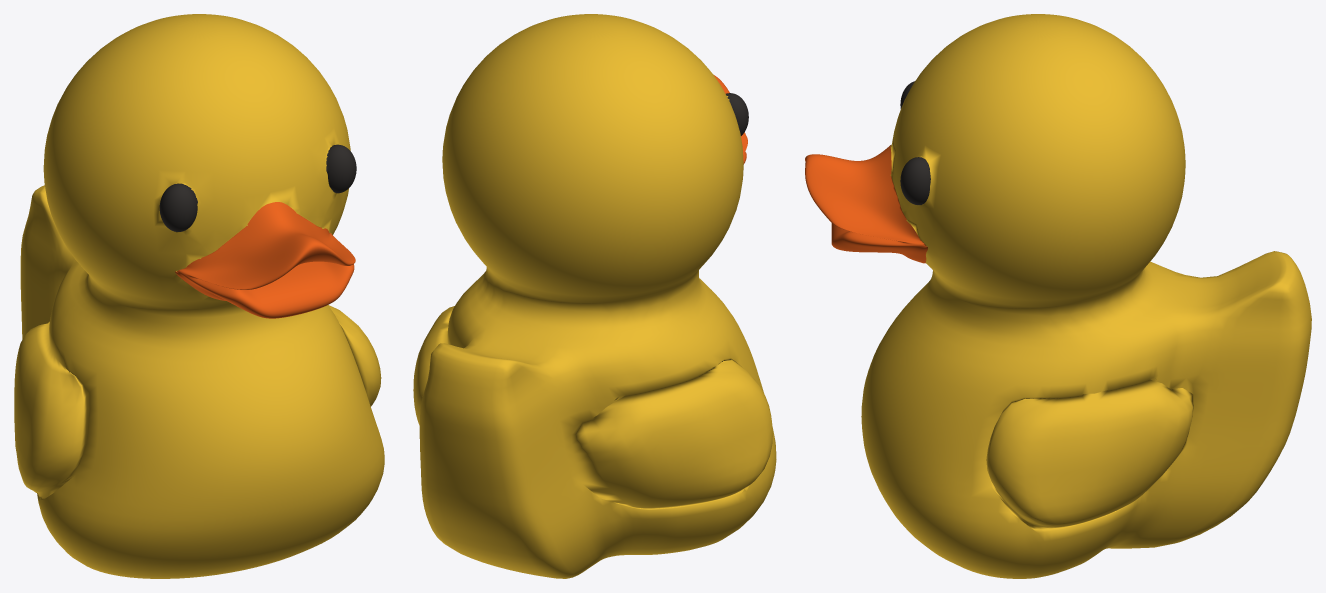
File: ducky.glb
The picture shows the model from 3 angles, left to right: view 1: azimuth 30°, elevation 25°; view 2: azimuth 150°, elevation 25°; view 3: azimuth 270°, elevation 25°; orthographic projection. The views are drawn at different scales.
Visible parts, largest first — view 1: duck; view 2: duck; view 3: duck.
Boxes of the visible parts, bbox=[...] form: duck: bbox=[14, 14, 384, 578]; duck: bbox=[413, 14, 776, 578]; duck: bbox=[805, 14, 1311, 578].
Size of the model in its own units: 1.76 by 2.53 by 2.26.
